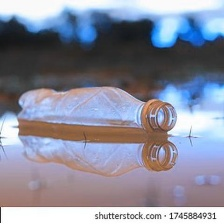bottle: (13, 125, 179, 180), (12, 84, 181, 133)
